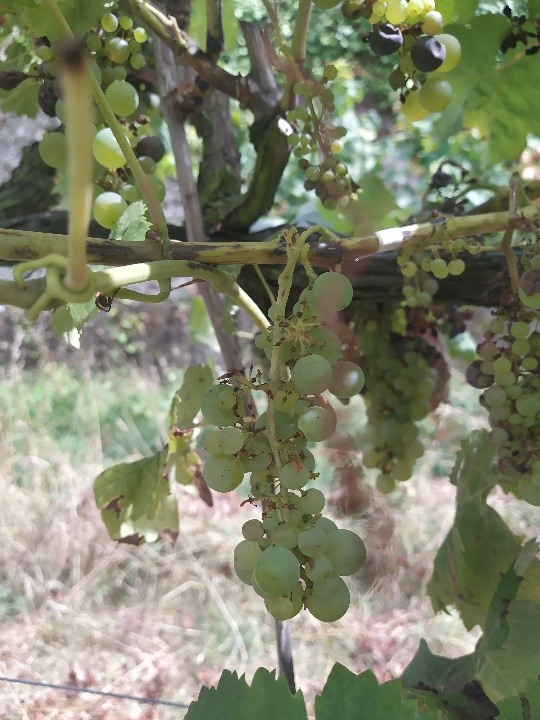grape: (193, 265, 369, 626)
